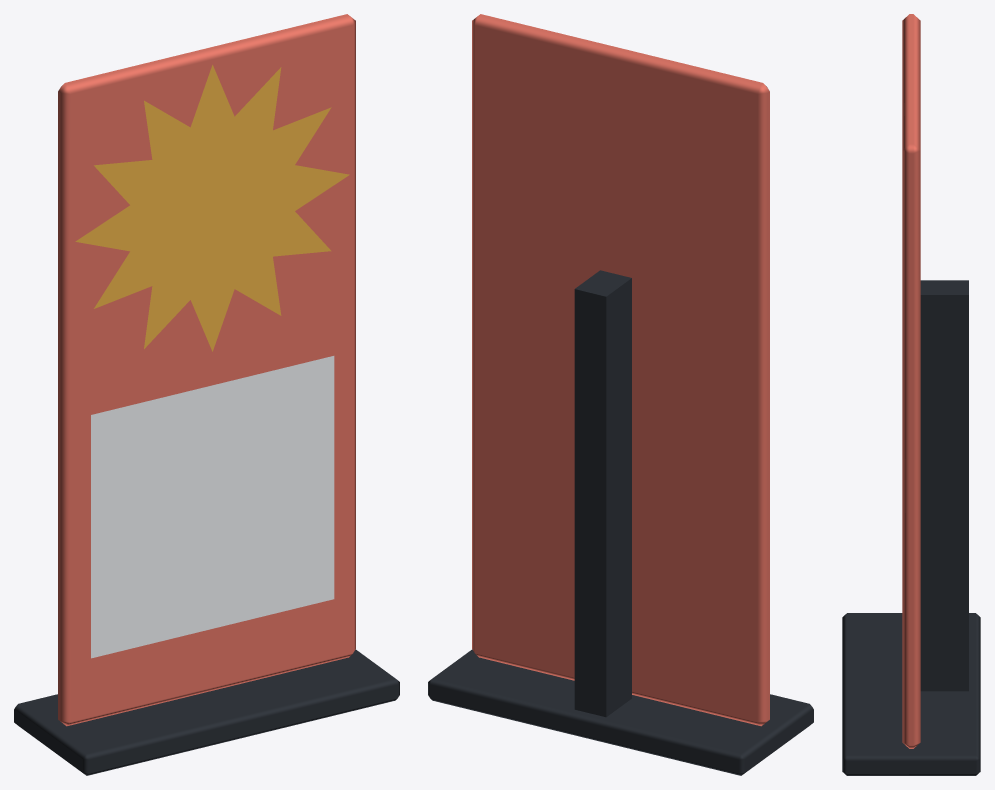
File: CM_Event_SaleStandee.fbx
The picture shows the model from 3 angles, left to right: view 1: azimuth 30°, elevation 25°; view 2: azimuth 150°, elevation 25°; view 3: azimuth 270°, elevation 25°; orthographic projection. The views are drawn at different scales.
Visible parts, largest first — view 1: Body, Face; view 2: Body; view 3: Body.
Boxes of the visible parts, left/top/right/bottom form: Body: left=14, top=14, right=399, bottom=775; Face: left=91, top=356, right=334, bottom=658; Body: left=428, top=14, right=813, bottom=775; Body: left=842, top=14, right=980, bottom=775.
Size of the model in its own units: 3 by 1.2 by 6.
Materials: 1 (1 with a texture image).
